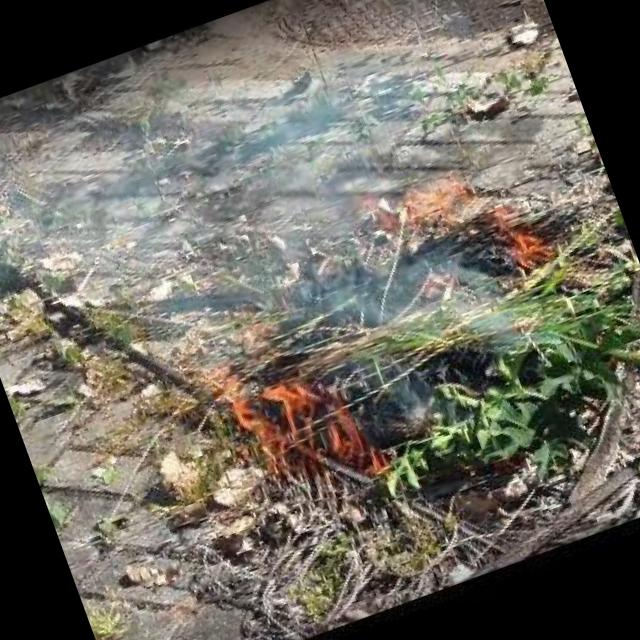fire: (380, 122, 586, 308), (212, 338, 400, 536)
smoke: (376, 355, 438, 440)
